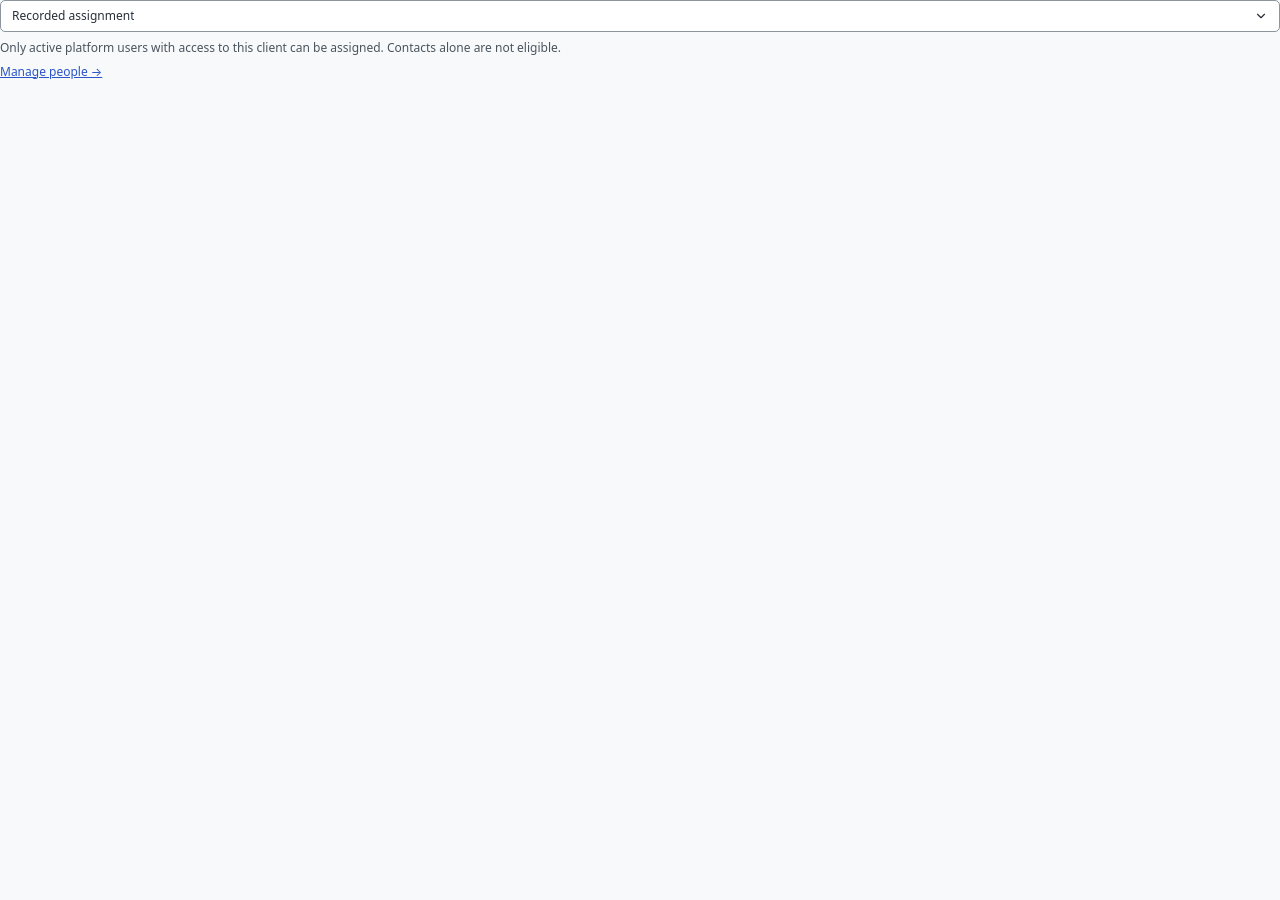
it: empty and malformed responses are explained without clearing the owner
This screenshot has width=1280, height=900.
Click the button "Recorded assignment". click: coordinates (73, 16)
box: [0,0,1279,32]
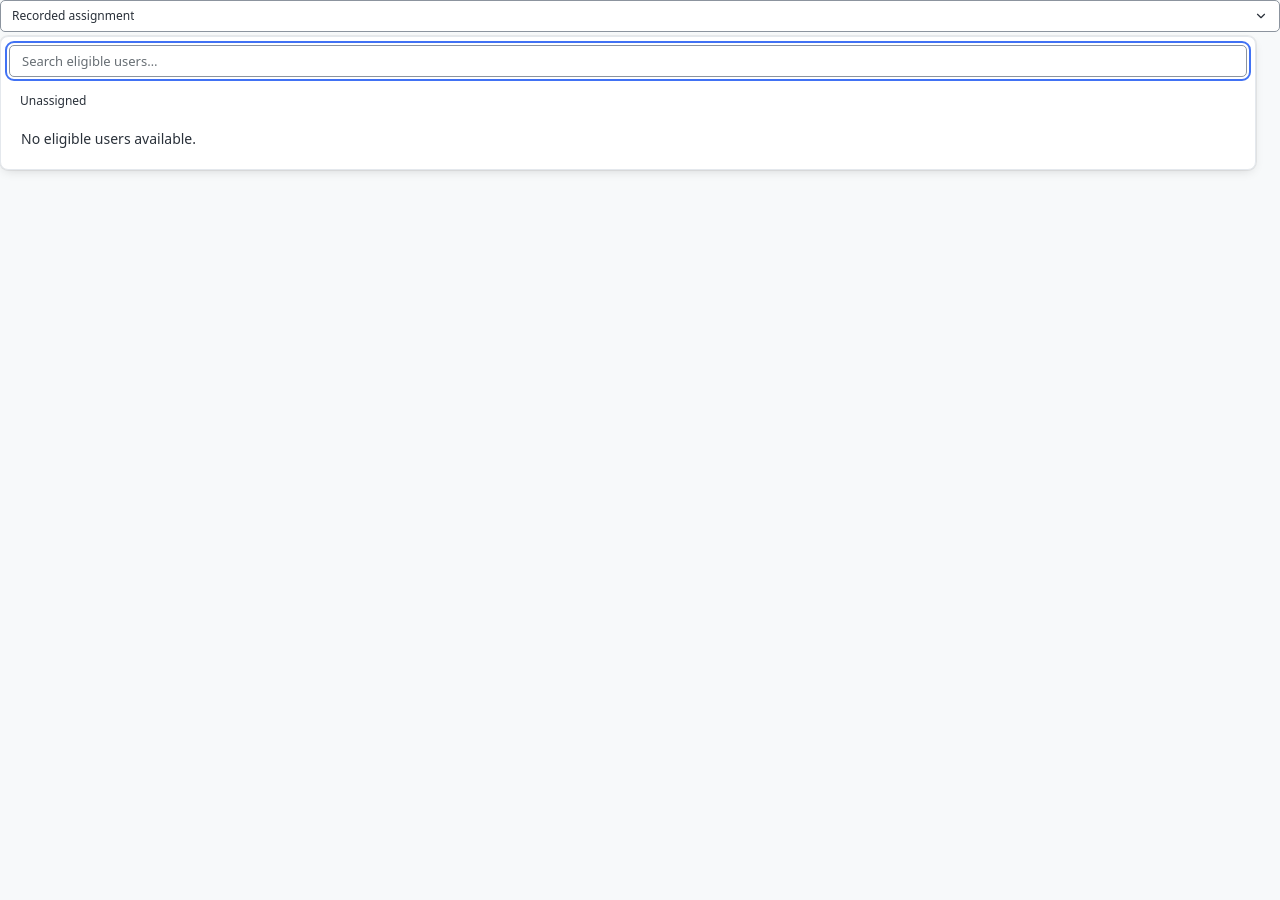
Result: the text "No eligible users available." is shown at [21,129,196,148]
